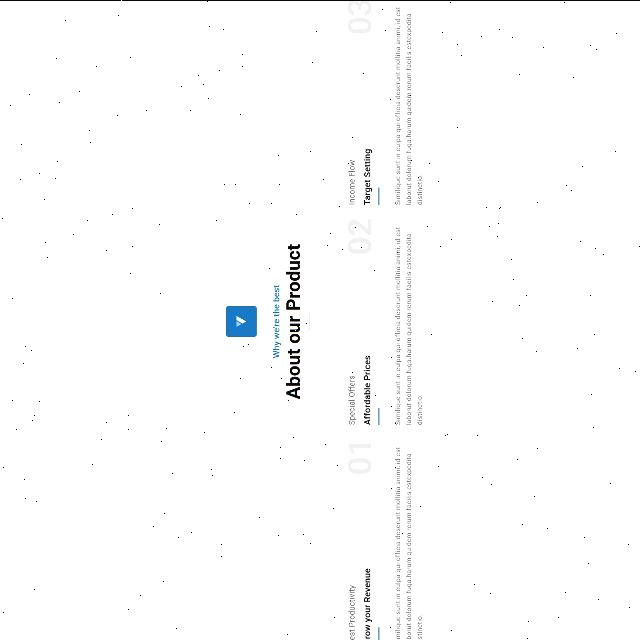QLabel: (393, 225, 423, 425), (393, 5, 422, 205), (394, 446, 422, 640), (284, 242, 302, 398), (347, 216, 371, 254), (346, 0, 372, 34), (346, 442, 372, 472), (362, 566, 372, 640), (362, 354, 372, 424), (272, 284, 280, 358), (362, 148, 372, 204), (347, 584, 355, 640), (348, 375, 354, 425), (348, 159, 354, 205)
VDivider: (308, 311, 310, 329), (377, 406, 379, 424), (377, 186, 379, 204), (377, 626, 379, 640)
VIcon: (234, 314, 246, 326)
